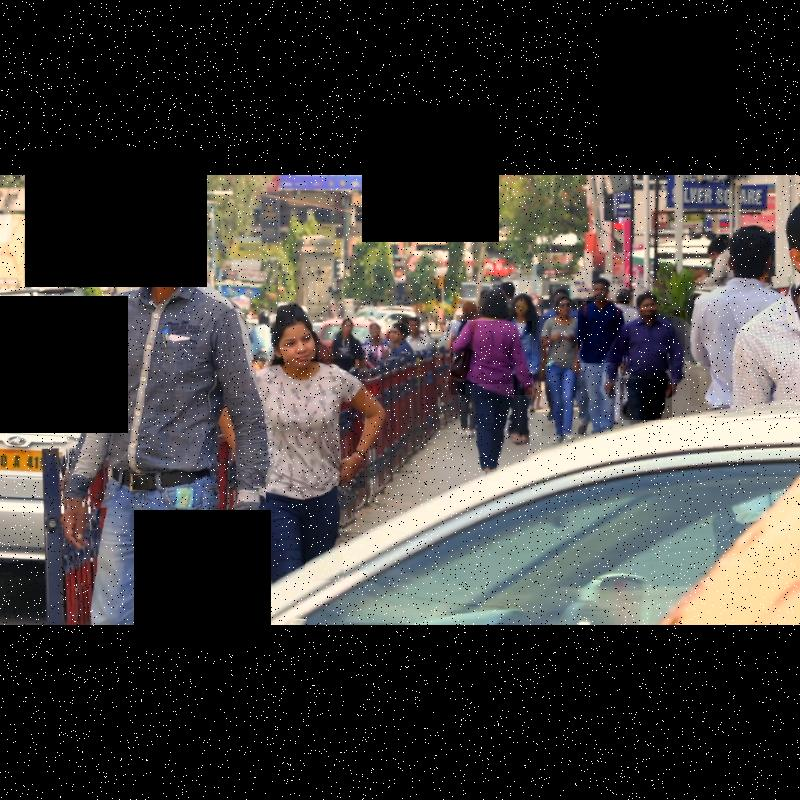Jeans: (267, 486, 343, 581), (465, 384, 513, 472), (542, 364, 580, 436)
Pant: (620, 372, 672, 420)
Shirt: (64, 269, 265, 516), (691, 278, 795, 406), (607, 310, 685, 379), (579, 301, 629, 363)
Tshirt: (250, 360, 365, 488), (451, 321, 532, 395), (538, 316, 579, 365)
